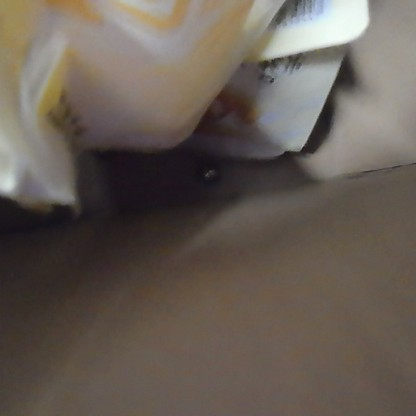ironball: (194, 159, 225, 185)
